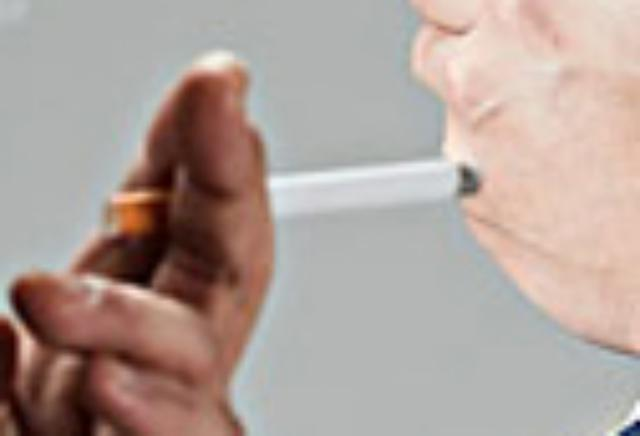Cigarette: (107, 159, 481, 239)
